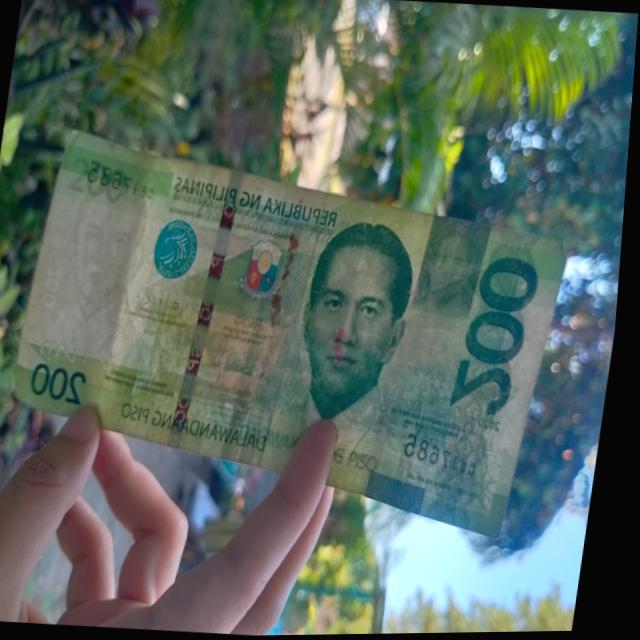concealed_value: (418, 218, 499, 322)
security_thread: (175, 168, 247, 448)
serial_number: (399, 427, 495, 482)
value: (452, 243, 550, 432)
value_watermark: (44, 258, 69, 308)
watermark: (55, 157, 169, 352)
